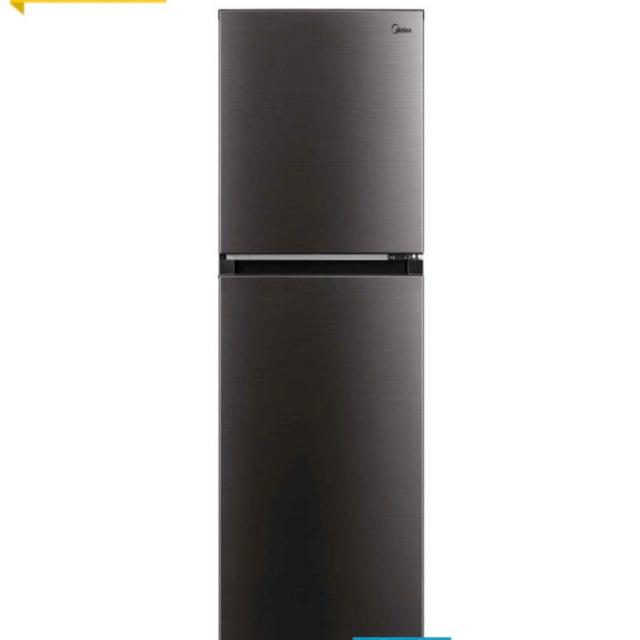refrigerator: (218, 7, 426, 639)
